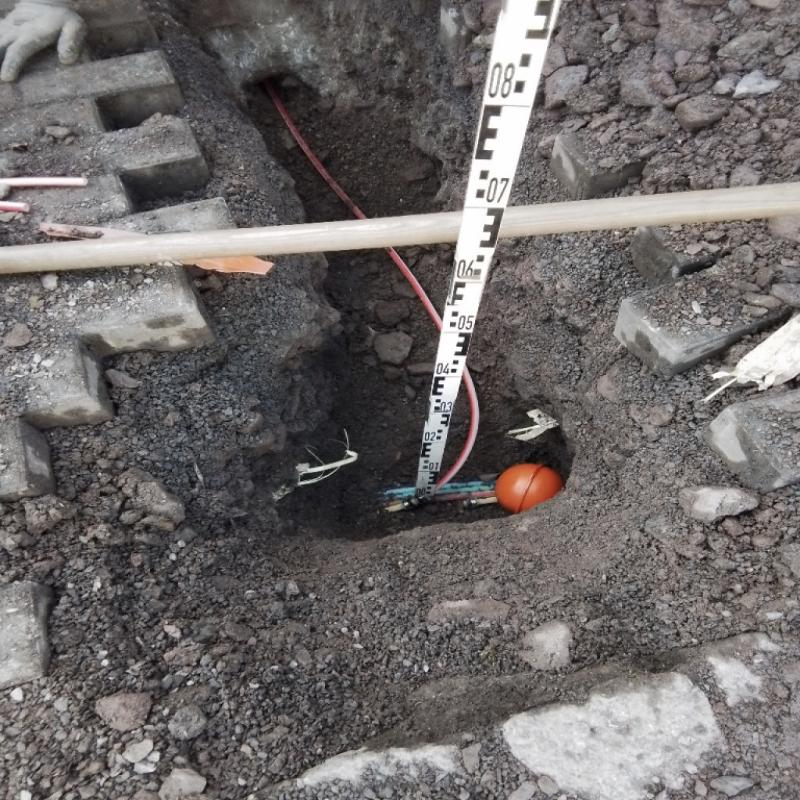Kugelmarker: (495, 463, 562, 515)
